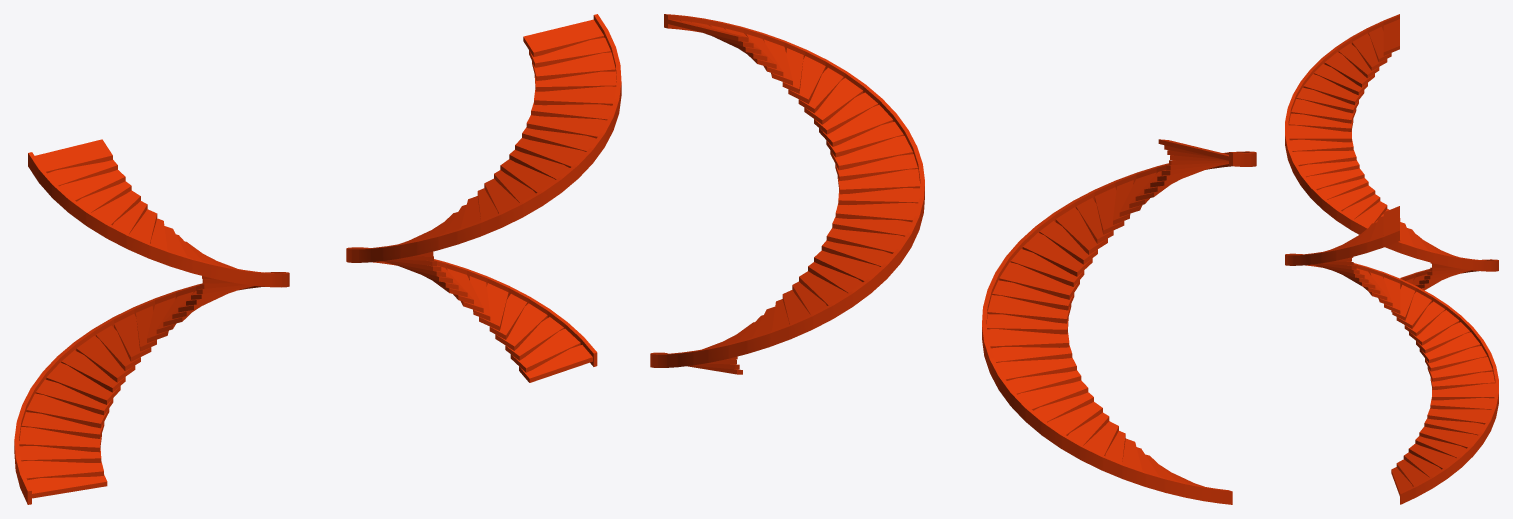
Rendered from Castle_Spiral_Staircase.FBX.
The picture shows the model from 3 angles, left to right: view 1: azimuth 30°, elevation 25°; view 2: azimuth 150°, elevation 25°; view 3: azimuth 270°, elevation 25°; orthographic projection. The views are drawn at different scales.
Parts seen in each view (by area): view 1: Helix001, Helix002; view 2: Helix001, Helix002; view 3: Helix002, Helix001.
Part boxes in pixels (x1,y1,x2,y2): Helix001: (14, 139, 289, 504); Helix002: (346, 14, 621, 382); Helix001: (982, 139, 1256, 504); Helix002: (650, 14, 924, 374); Helix002: (1285, 206, 1498, 504); Helix001: (1285, 14, 1498, 312).
Bounding box in the file's own units: 47.4 × 28.01 × 19.78.
